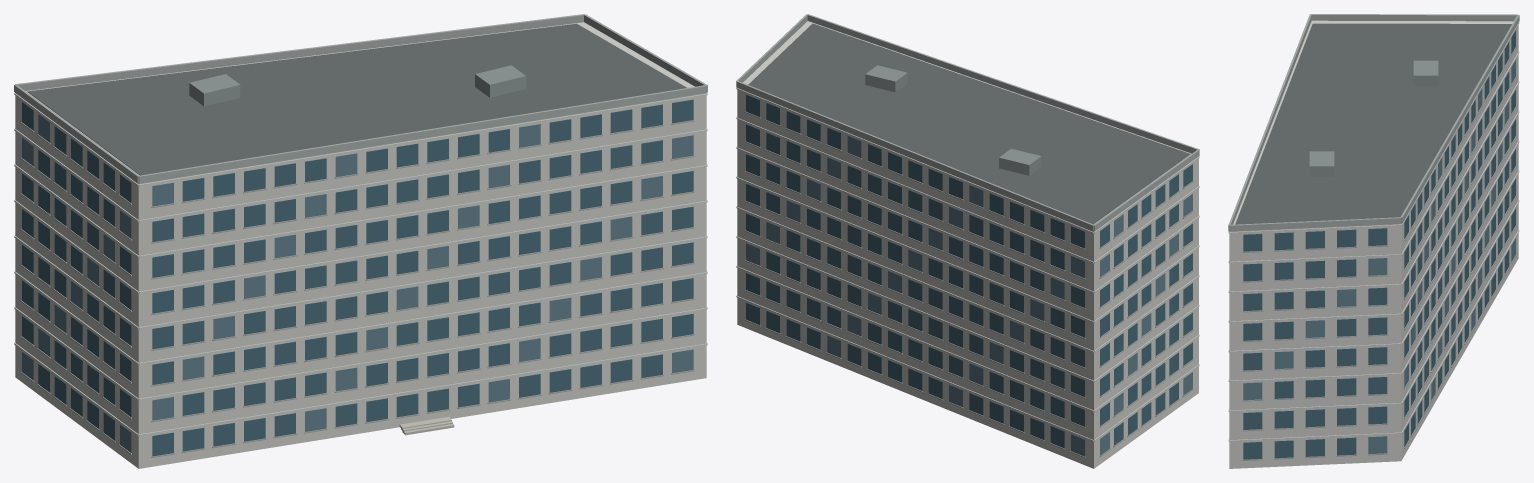
File: 东侧办公园区-026.glb
3 views of the same model, side by side, from view 1: azimuth 30°, elevation 25°; view 2: azimuth 150°, elevation 25°; view 3: azimuth 270°, elevation 25° (orthographic). The views are drawn at different scales.
Parts seen in each view (by area): view 1: 东侧办公园区-026; view 2: 东侧办公园区-026; view 3: 东侧办公园区-026.
Boxes of the visible parts, left/top/right/bottom form: 东侧办公园区-026: left=14, top=14, right=707, bottom=468; 东侧办公园区-026: left=736, top=14, right=1199, bottom=468; 东侧办公园区-026: left=1228, top=14, right=1519, bottom=468.
Bounding box in the file's own units: 57.31 × 31.42 × 33.31.
